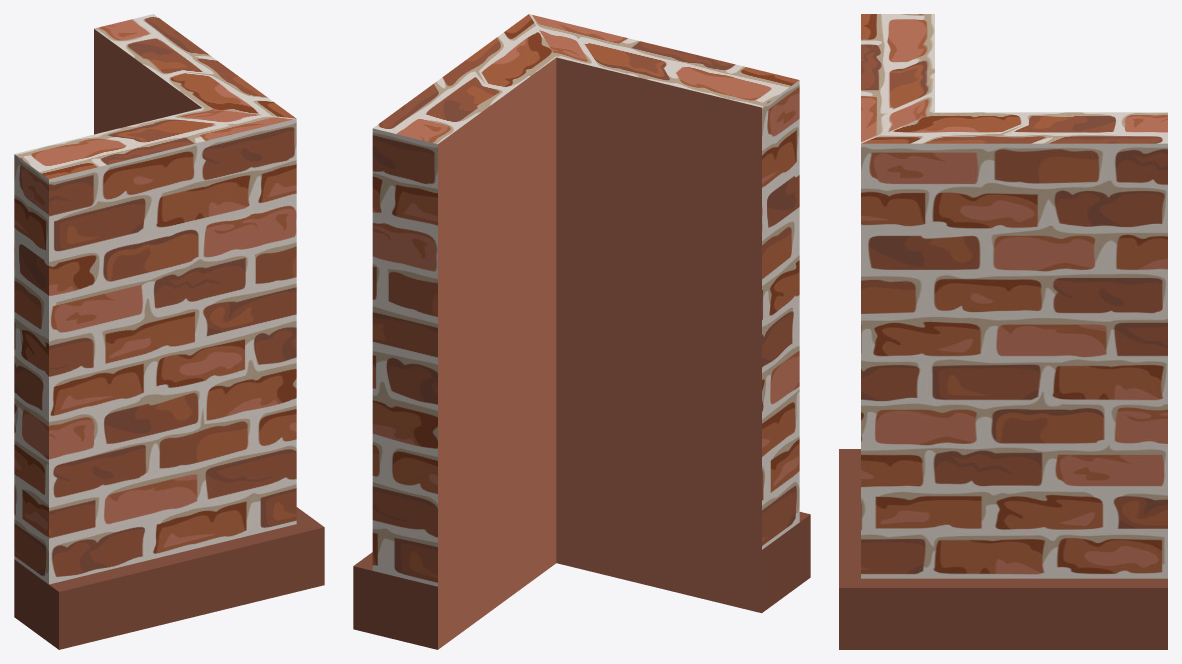
Rendered from koseduvar2.fbx.
3 views of the same model, side by side, from view 1: azimuth 30°, elevation 25°; view 2: azimuth 150°, elevation 25°; view 3: azimuth 270°, elevation 25° (orthographic). The views are drawn at different scales.
Parts seen in each view (by area): view 1: kose_duvar; view 2: kose_duvar; view 3: kose_duvar.
Boxes of the visible parts, x1=… form: kose_duvar: x1=14, y1=14, x2=324, y2=649; kose_duvar: x1=353, y1=14, x2=810, y2=649; kose_duvar: x1=839, y1=14, x2=1167, y2=649.
Size of the model in its own units: 240 by 400 by 240.
1 material, 1 textured.
